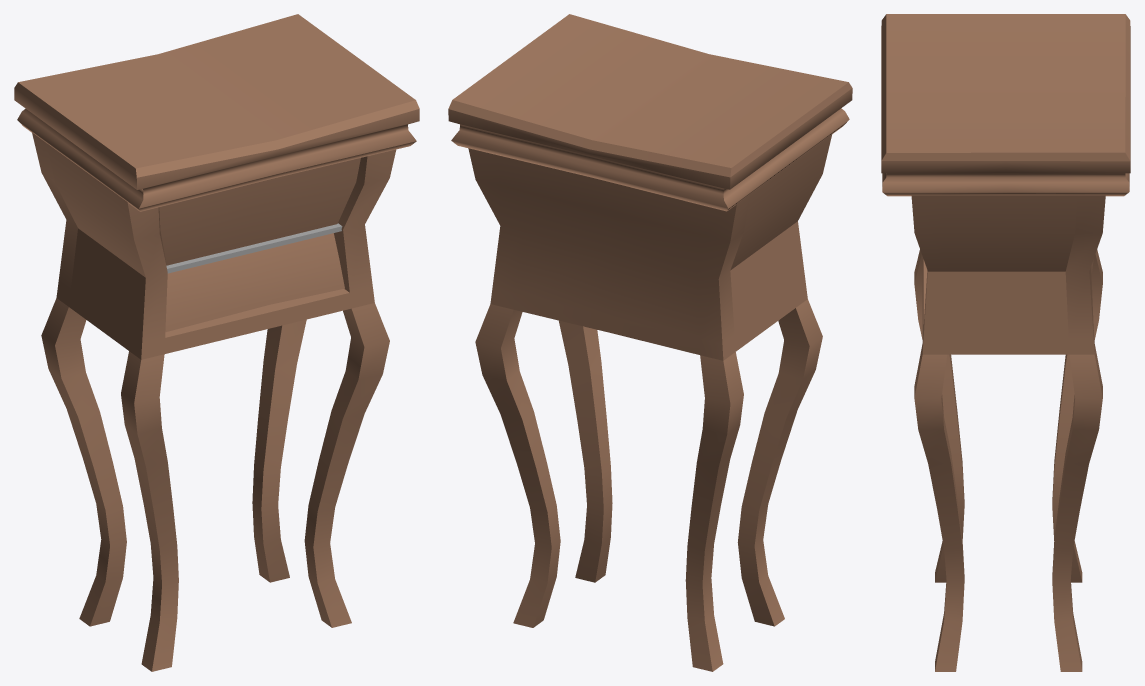
Rendered from Commode_03_taille.fbx.
3 views of the same model, side by side, from view 1: azimuth 30°, elevation 25°; view 2: azimuth 150°, elevation 25°; view 3: azimuth 270°, elevation 25° (orthographic).
Parts seen in each view (by area): view 1: pCube92; view 2: pCube92; view 3: pCube92.
Part boxes in pixels (x1=…): pCube92: x1=14, y1=14, x2=419, y2=671; pCube92: x1=448, y1=14, x2=852, y2=671; pCube92: x1=881, y1=14, x2=1130, y2=671.
Bounding box in the file's own units: 0.6846 × 1.23 × 0.514.
